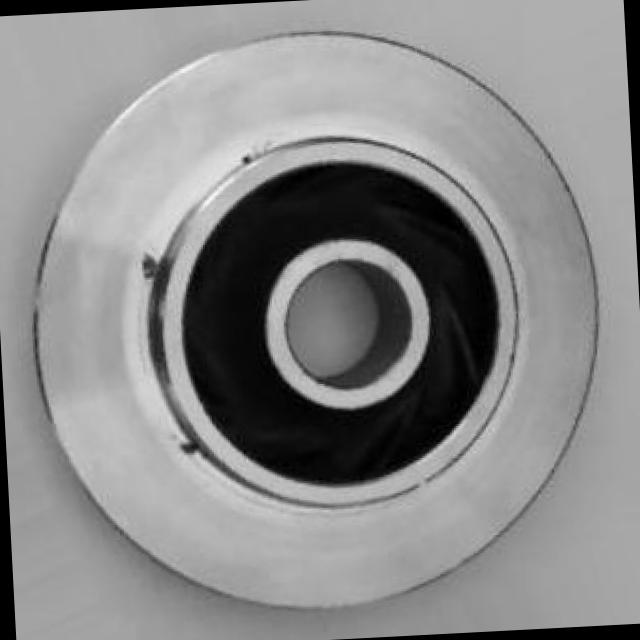Defect: (132, 240, 168, 290)
